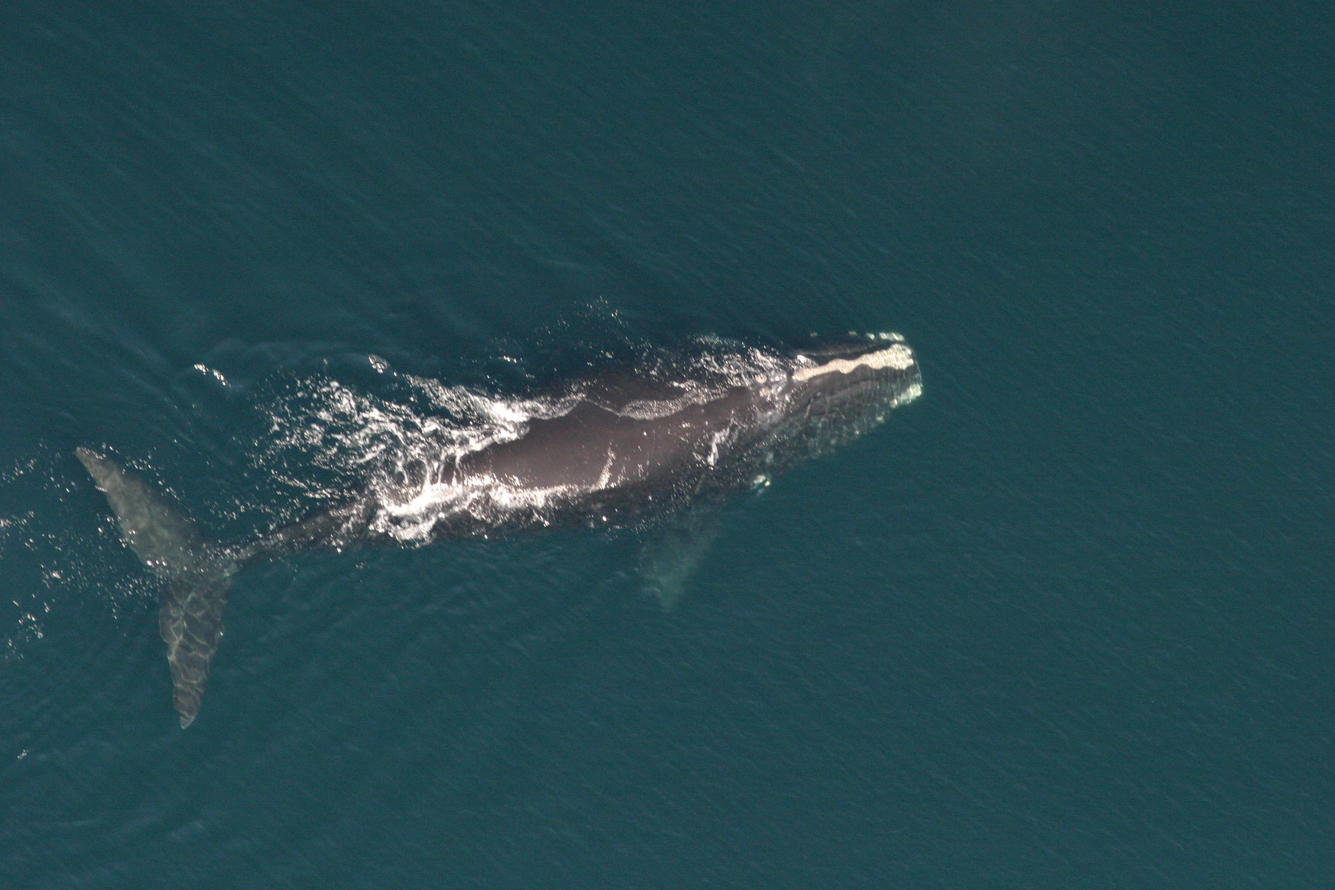whale: (67, 317, 935, 739)
